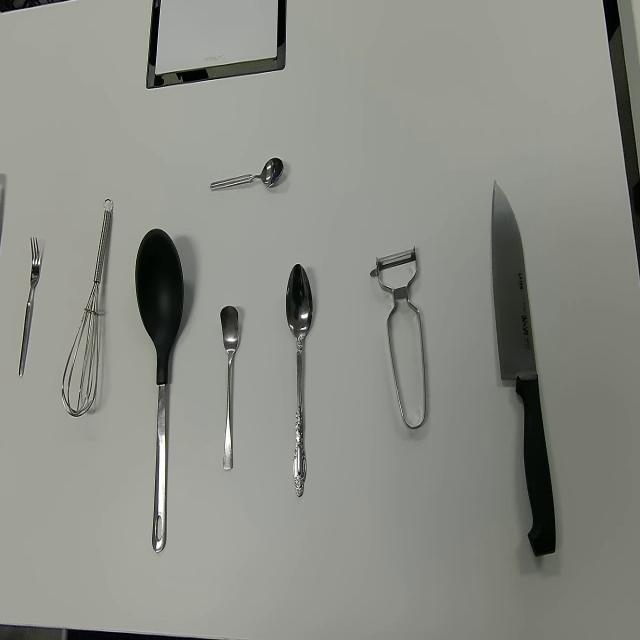Desert-Spoon: (285, 262, 314, 500)
Dinner-Fork: (17, 236, 41, 380)
Kitchen-Knife: (491, 179, 557, 559)
Peeler: (369, 245, 427, 430)
Serving-Spoon: (134, 226, 184, 553)
Tea-Spoon: (219, 303, 239, 471), (210, 156, 284, 194)
Whisk: (60, 196, 115, 416)
